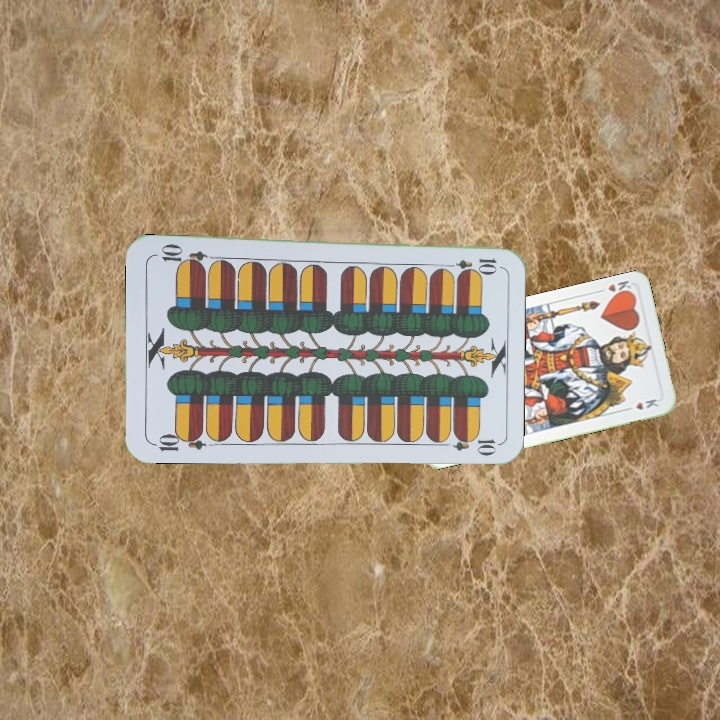E10: (148, 428, 207, 454), (440, 254, 500, 273)
HK: (593, 276, 635, 299)
